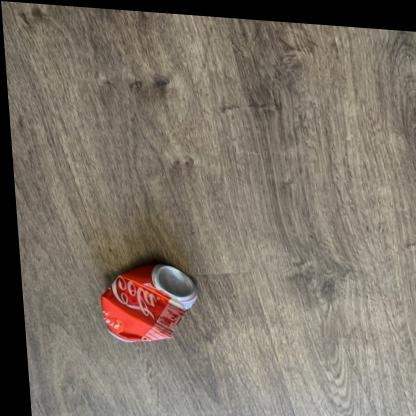trash: (101, 264, 196, 341)
